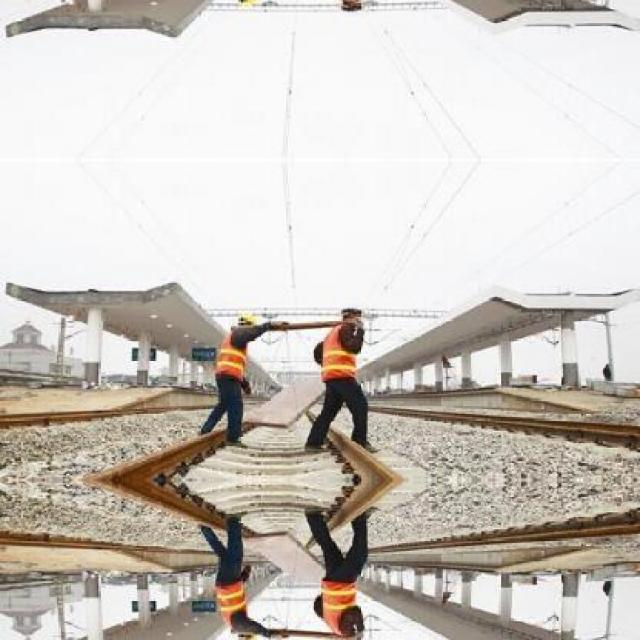Reflective-Jacket: (314, 323, 372, 392), (209, 326, 262, 388)
Safety-Helmet: (231, 303, 266, 331)
